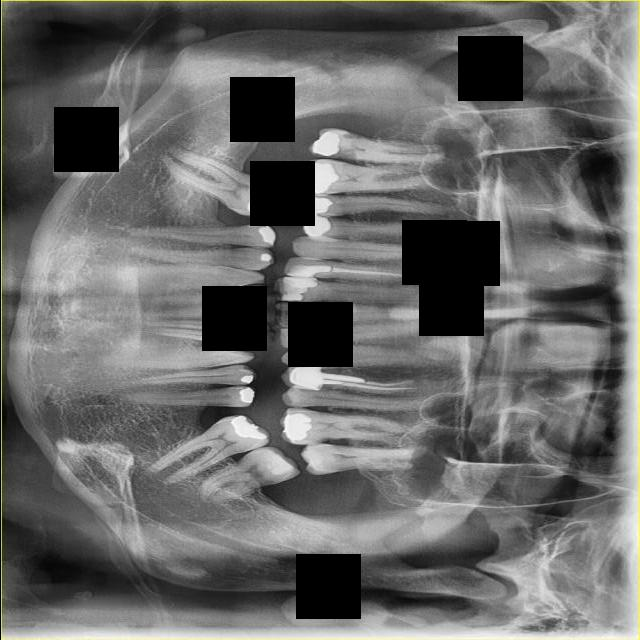71: (298, 370, 366, 388)
74: (337, 382, 415, 394), (330, 268, 410, 276), (366, 380, 414, 386)
NucleOSS Implant: (227, 412, 268, 450), (244, 183, 280, 218), (280, 410, 314, 445), (303, 163, 340, 194), (310, 128, 341, 158), (302, 210, 332, 239), (303, 195, 334, 217), (256, 222, 278, 248), (237, 386, 255, 404), (260, 252, 272, 262), (240, 375, 253, 384)
Sterngold Implant: (311, 146, 358, 160), (341, 131, 365, 143), (221, 266, 241, 275), (227, 343, 243, 349), (232, 384, 244, 389), (232, 381, 244, 385)
Straumann Implant: (274, 275, 317, 301), (260, 449, 293, 481), (287, 263, 332, 280), (284, 327, 319, 344), (275, 299, 309, 315), (283, 316, 309, 331)
Zimmer Implant: (279, 362, 325, 390)
